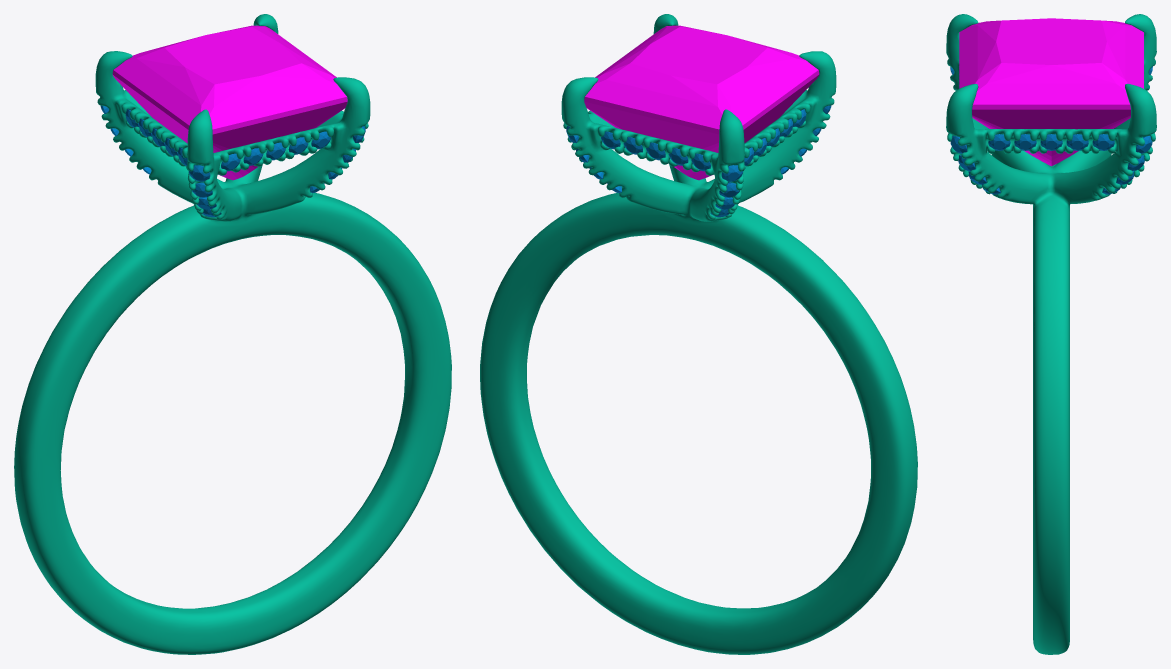
The model's file is BE1D928_PR_200ct_RENDER.glb.
The picture shows the model from 3 angles, left to right: view 1: azimuth 30°, elevation 25°; view 2: azimuth 150°, elevation 25°; view 3: azimuth 270°, elevation 25°; orthographic projection.
Visible parts, largest first — view 1: Metal 01, CS_Diamond_Princess; view 2: Metal 01, CS_Diamond_Princess; view 3: Metal 01, CS_Diamond_Princess.
Boxes of the visible parts, x1,y1,x2,y2 form: Metal 01: (14, 14, 451, 654); CS_Diamond_Princess: (112, 25, 347, 180); Metal 01: (480, 14, 917, 654); CS_Diamond_Princess: (584, 25, 819, 180); Metal 01: (946, 14, 1156, 654); CS_Diamond_Princess: (959, 18, 1143, 166).
Size of the model in its own units: 20.1 by 26.44 by 8.56.
